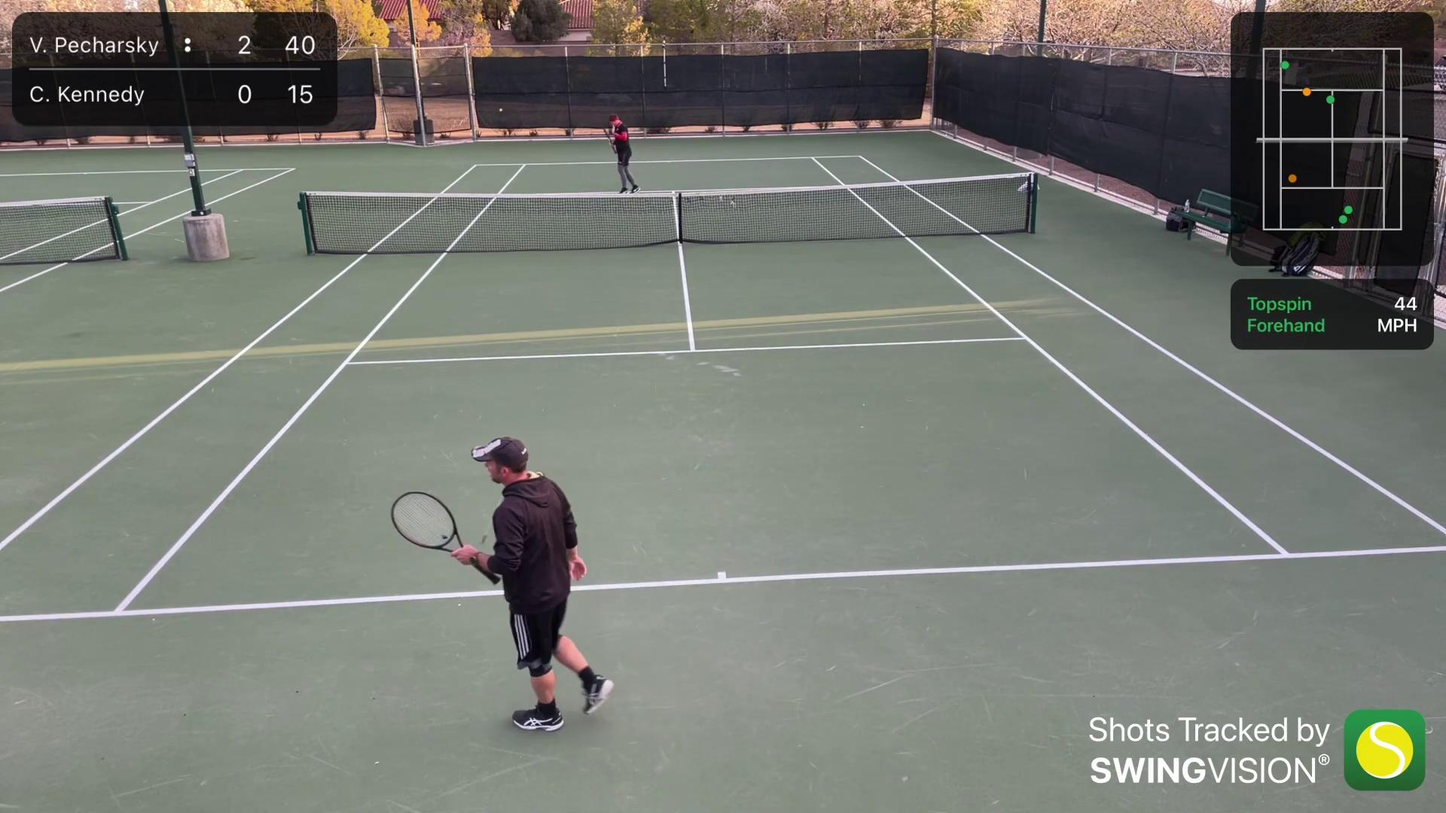ball: (497, 108, 504, 113)
